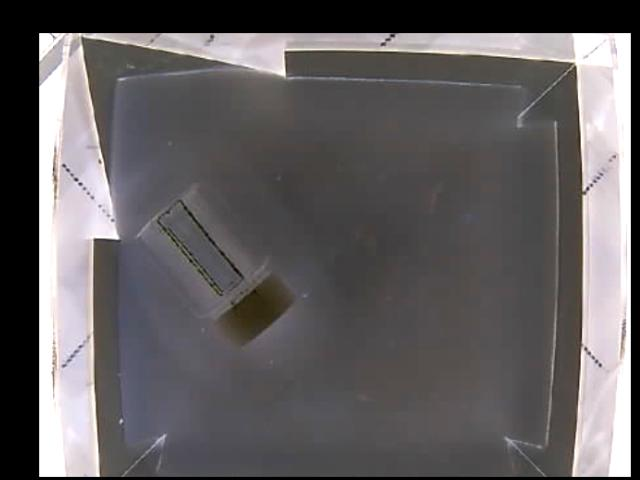Bottle: (134, 183, 298, 352)
